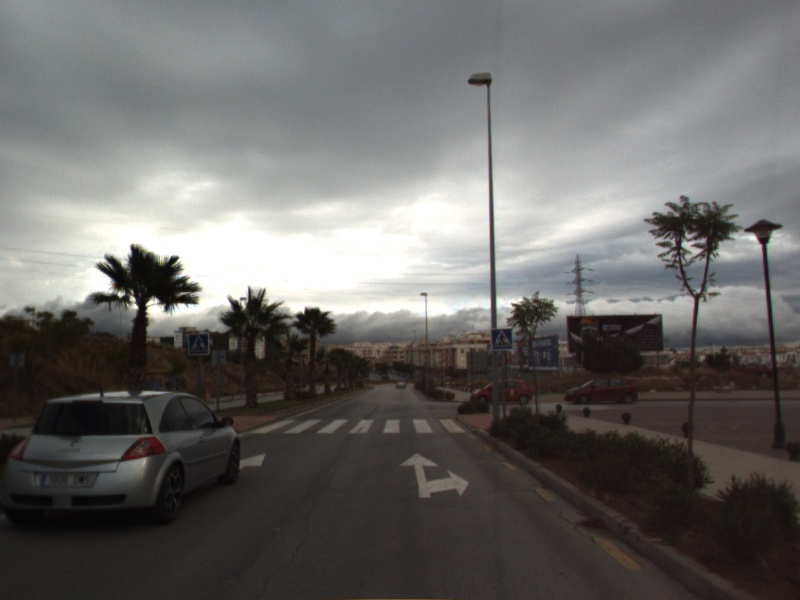STRAIGHT_RIGHT: (397, 451, 471, 500)
